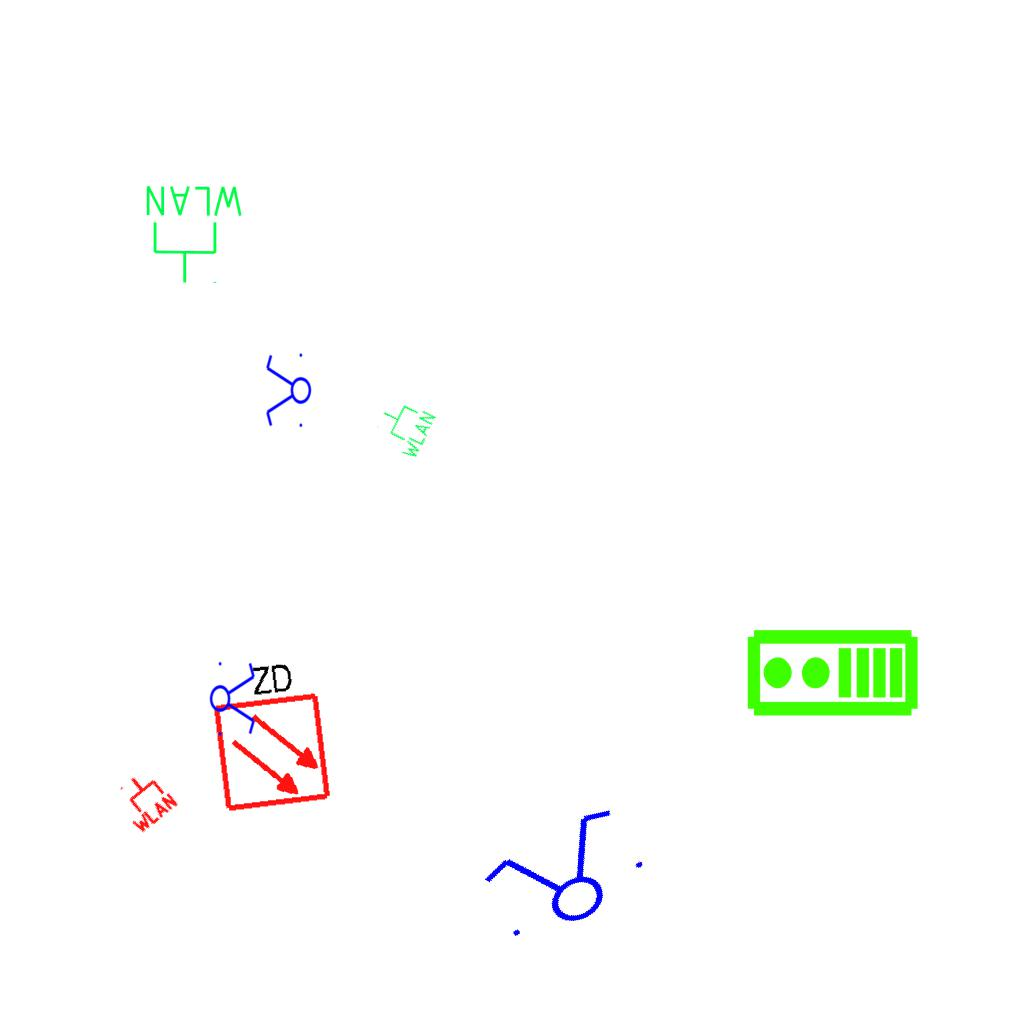Gegensprechanlage_mit_Video: (744, 627, 920, 722)
Serienschalter: (467, 794, 661, 960), (264, 349, 312, 433), (209, 656, 257, 740)
WLAN: (142, 182, 247, 286), (107, 763, 181, 837), (369, 393, 439, 463)
ZD_Melder_in_Zwischendecke_mit_Revisionsoeffnung_mind_40_x_40_cm: (202, 652, 334, 815)
